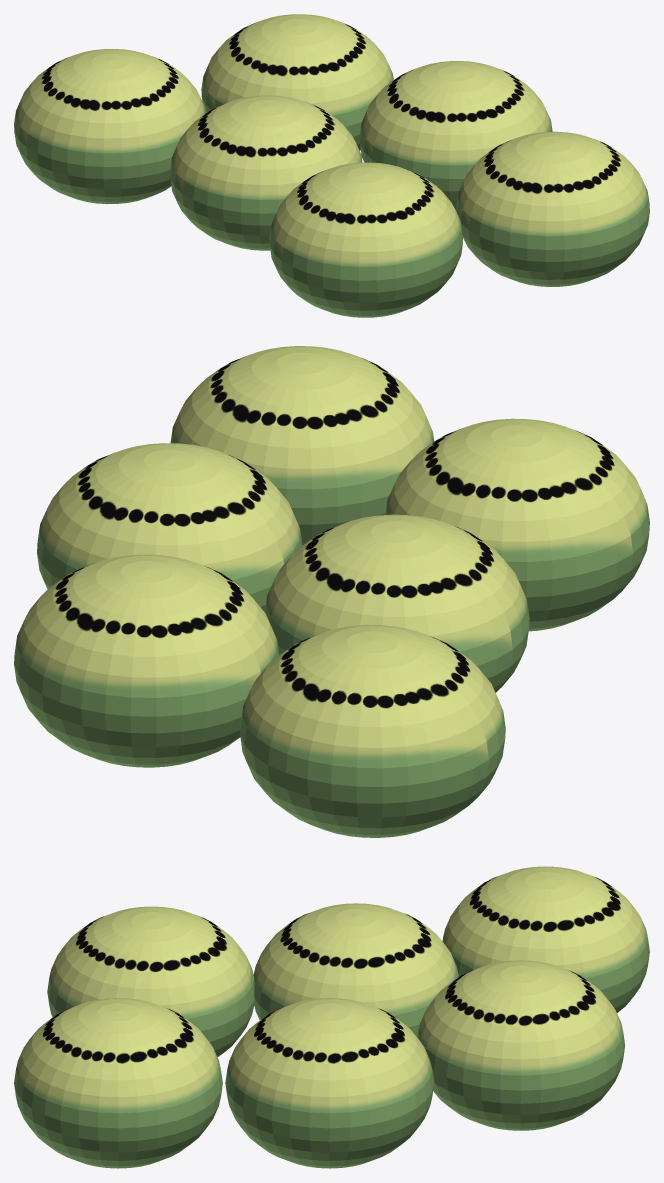
Rendered from huevos_morpho_helenor_peleides.fbx.
The picture shows the model from 3 angles, top to bottom: view 1: azimuth 30°, elevation 25°; view 2: azimuth 150°, elevation 25°; view 3: azimuth 270°, elevation 25°; orthographic projection. The views are drawn at different scales.
Parts seen in each view (by area): view 1: Sphere.003, Sphere, Sphere.005, Sphere.002, Sphere.001, Sphere.004; view 2: Sphere.005, Sphere.004, Sphere.003, Sphere, Sphere.002, Sphere.001; view 3: Sphere.001, Sphere, Sphere.004, Sphere.003, Sphere.005, Sphere.002.
Boxes of the visible parts, left/top/right/bottom form: Sphere.003: left=269, top=162, right=462, bottom=317; Sphere: left=456, top=131, right=649, bottom=286; Sphere.005: left=14, top=49, right=205, bottom=204; Sphere.002: left=170, top=95, right=362, bottom=250; Sphere.001: left=359, top=61, right=552, bottom=211; Sphere.004: left=201, top=14, right=393, bottom=150; Sphere.005: left=240, top=625, right=505, bottom=837; Sphere.004: left=14, top=554, right=279, bottom=767; Sphere.003: left=385, top=418, right=649, bottom=631; Sphere: left=170, top=346, right=434, bottom=544; Sphere.002: left=264, top=514, right=529, bottom=692; Sphere.001: left=37, top=443, right=302, bottom=611; Sphere.001: left=225, top=998, right=434, bottom=1168; Sphere: left=14, top=998, right=222, bottom=1168; Sphere.004: left=417, top=960, right=625, bottom=1130; Sphere.003: left=47, top=906, right=254, bottom=1057; Sphere.005: left=442, top=866, right=649, bottom=1012; Sphere.002: left=253, top=903, right=458, bottom=1037.
Size of the model in its own units: 420 by 128 by 509.
Materials: 1 (1 with a texture image).
